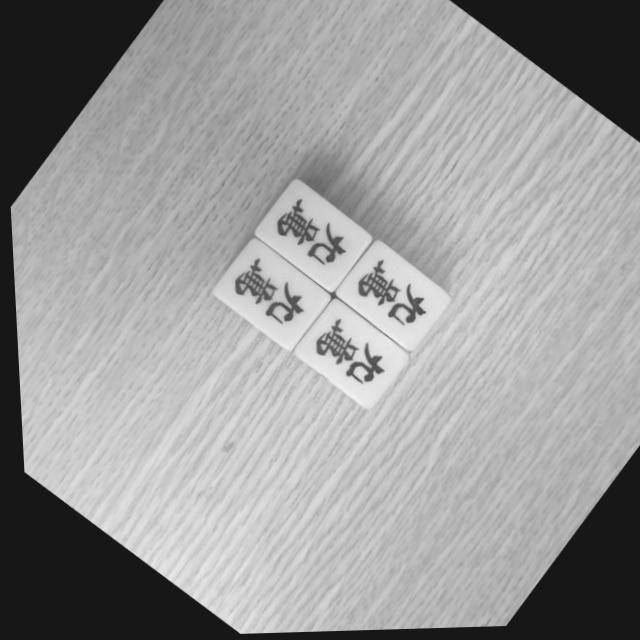sc9: (336, 248, 443, 349), (258, 187, 364, 288), (216, 246, 322, 347), (295, 307, 400, 406)
